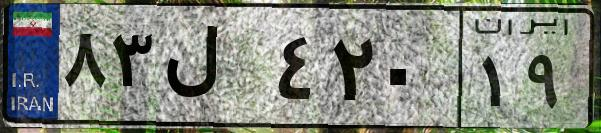0: (385, 28, 445, 110)
1: (475, 38, 525, 113)
2: (330, 28, 385, 110)
3: (110, 28, 158, 98)
4: (270, 28, 330, 110)
8: (57, 26, 110, 100)
9: (525, 38, 570, 115)
ل: (158, 20, 270, 120)
